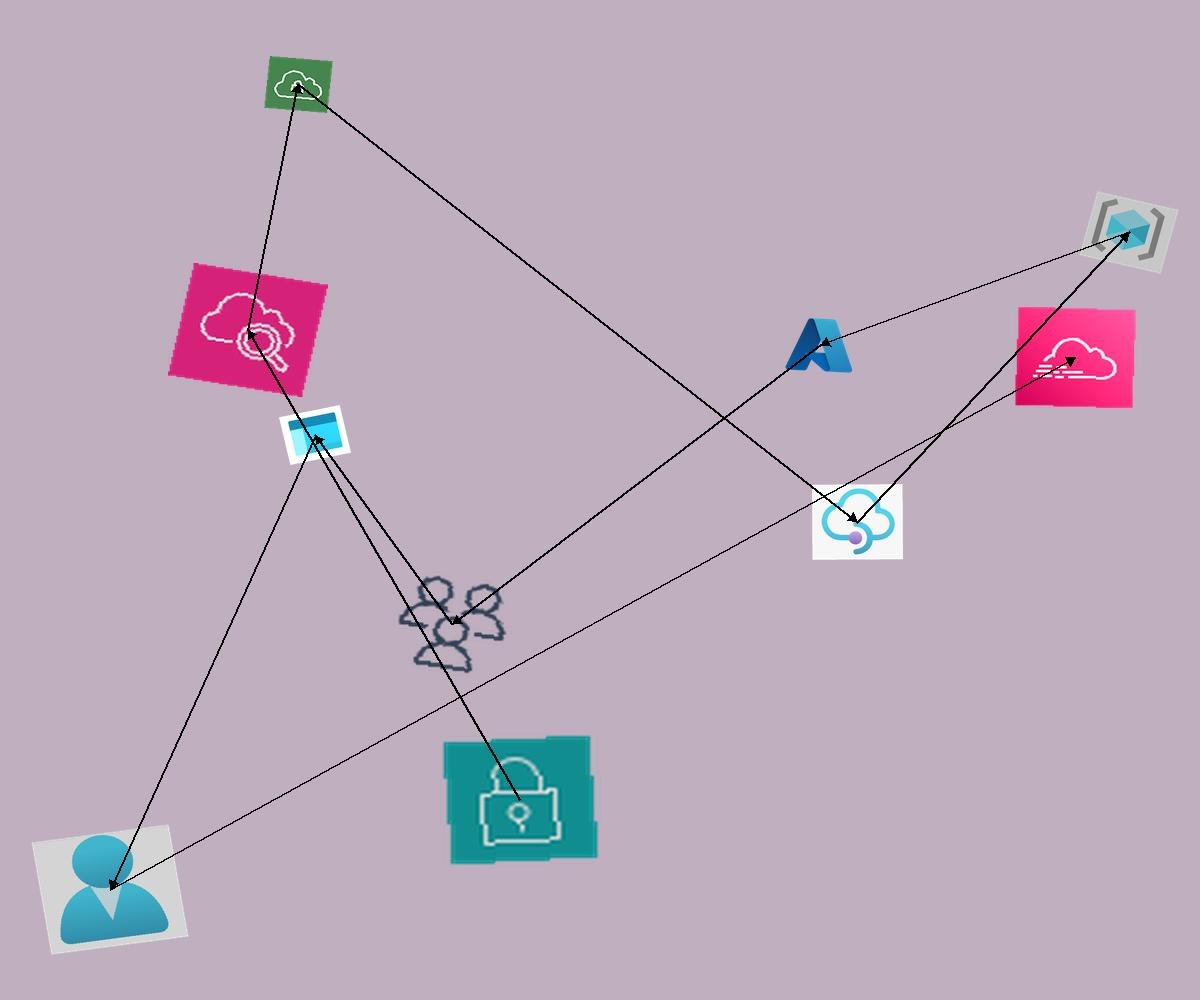AWS-CloudTrail: (1014, 306, 1137, 409)
AWS-CloudWatch: (168, 263, 328, 397)
AWS-Private-subnet: (440, 733, 601, 867)
AWS-Private_vpc: (264, 56, 333, 113)
AWS-Res_Users: (382, 566, 523, 683)
Azure_api_gateway: (812, 484, 903, 560)
Azure_management-portal: (279, 405, 351, 465)
Azure_resource_group: (1079, 191, 1179, 274)
Azure_services: (782, 313, 859, 377)
Azure_users: (31, 824, 189, 955)
